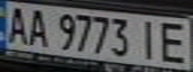3: (109, 15, 136, 58)
7: (90, 13, 112, 55), (72, 11, 93, 52)
9: (51, 10, 75, 52)
A: (24, 6, 54, 47), (3, 3, 30, 45)
E: (154, 18, 193, 64)
I: (133, 17, 163, 61)
